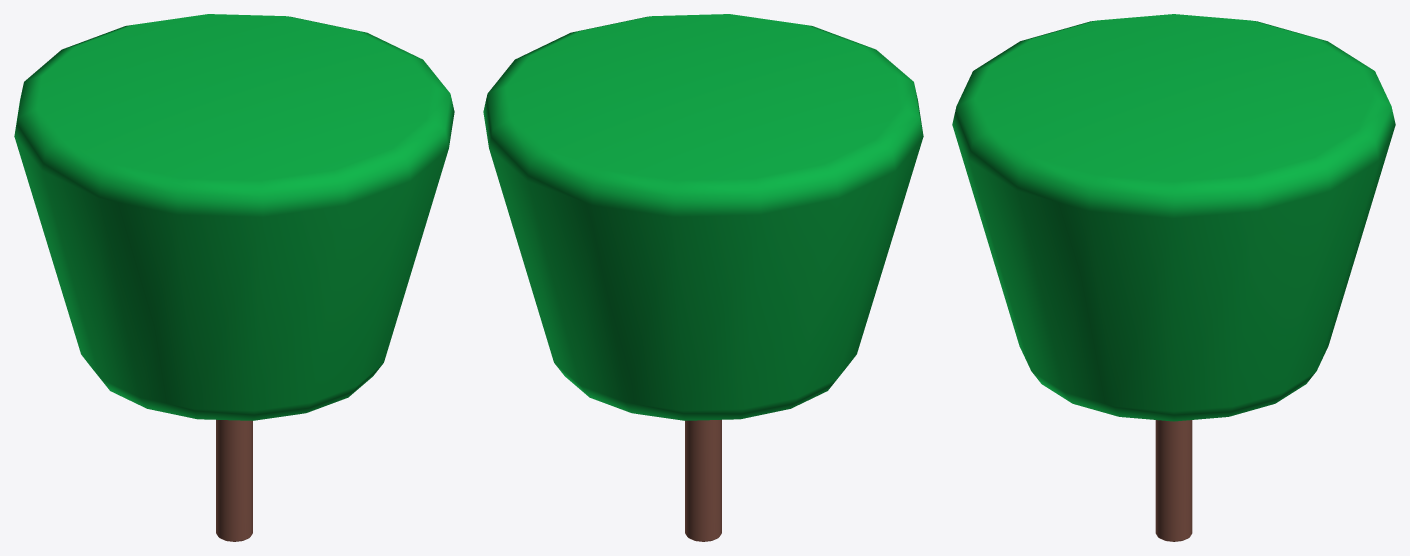
The model's file is Farm_5_Bush_1.glb.
The picture shows the model from 3 angles, left to right: view 1: azimuth 30°, elevation 25°; view 2: azimuth 150°, elevation 25°; view 3: azimuth 270°, elevation 25°; orthographic projection.
Visible parts, largest first — view 1: Farm_5_Bush_1; view 2: Farm_5_Bush_1; view 3: Farm_5_Bush_1.
Boxes of the visible parts, x1,y1,x2,y2 form: Farm_5_Bush_1: [14, 14, 454, 541]; Farm_5_Bush_1: [483, 14, 923, 541]; Farm_5_Bush_1: [952, 14, 1395, 541].
Size of the model in its own units: 1 by 1.09 by 1.
1 material, 1 textured.
